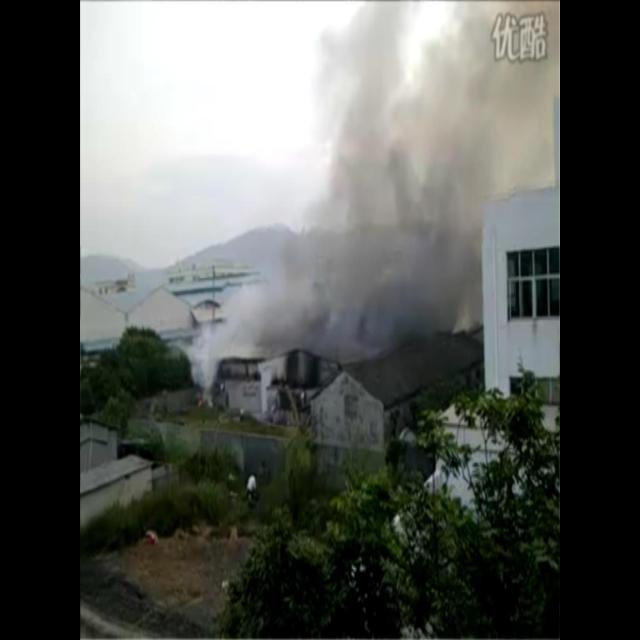Smoke: (187, 1, 560, 392)
